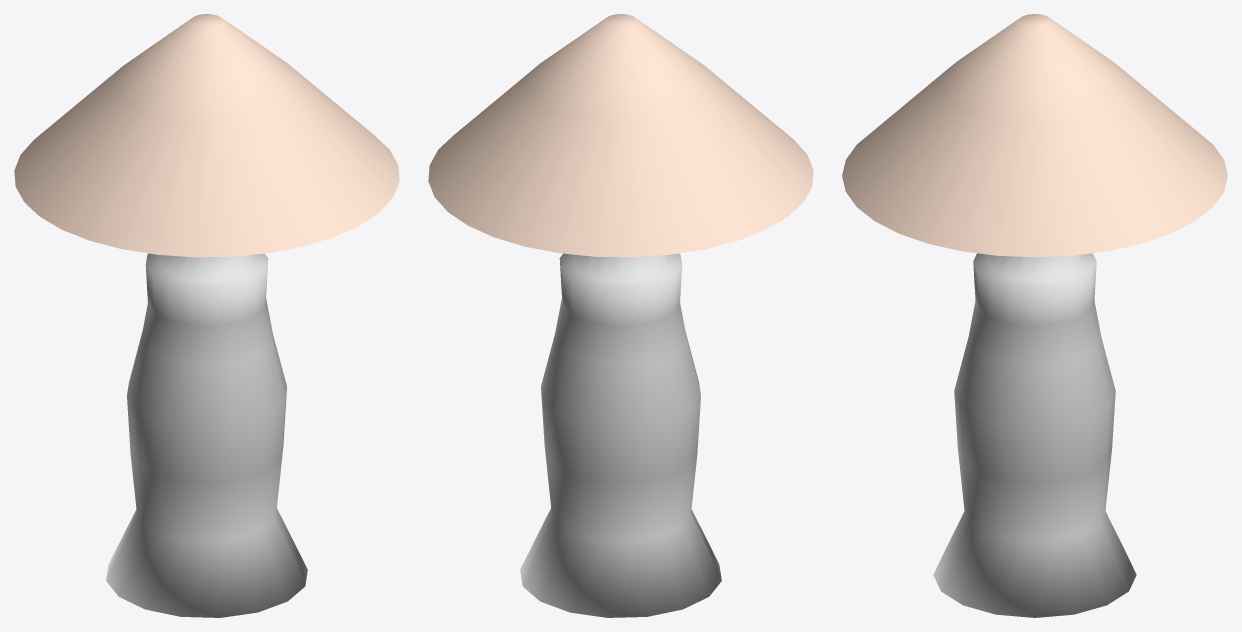
File: Lampada.obj
3 renders of one model, left to right at view 1: azimuth 30°, elevation 25°; view 2: azimuth 150°, elevation 25°; view 3: azimuth 270°, elevation 25°, orthographic.
Visible parts, largest first — view 1: Copri_lampada_Circle, Lampada_Cylinder; view 2: Copri_lampada_Circle, Lampada_Cylinder; view 3: Copri_lampada_Circle, Lampada_Cylinder.
Boxes of the visible parts, x1,y1,x2,y2 form: Copri_lampada_Circle: [14, 14, 399, 257]; Lampada_Cylinder: [106, 253, 307, 617]; Copri_lampada_Circle: [428, 14, 813, 257]; Lampada_Cylinder: [520, 253, 721, 617]; Copri_lampada_Circle: [842, 14, 1227, 257]; Lampada_Cylinder: [933, 253, 1136, 617].
Bounding box in the file's own units: 0.6274 × 0.994 × 0.6274.
